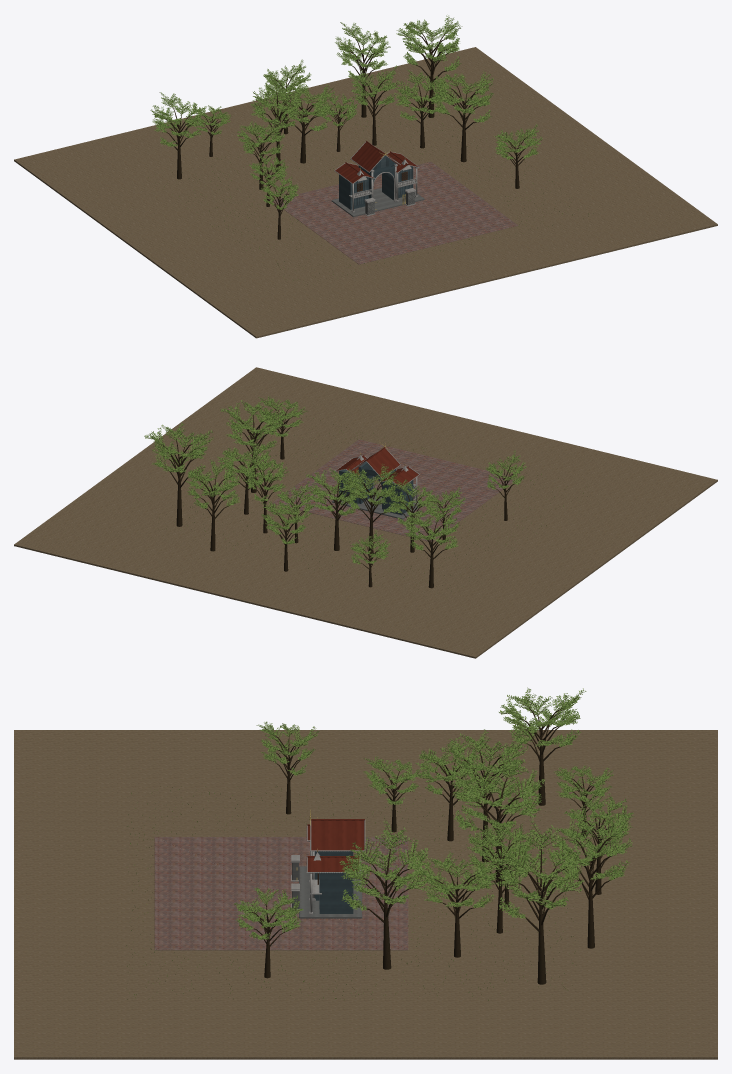
File: western-gate.glb
3 views of the same model, one above another, from view 1: azimuth 30°, elevation 25°; view 2: azimuth 150°, elevation 25°; view 3: azimuth 270°, elevation 25° (orthographic). The views are drawn at different scales.
Parts seen in each view (by area): view 1: Earth beneath the courtyard, Brick courtyard, Broadleaf tree.010, Broadleaf tree.006, Broadleaf tree.013, Broadleaf tree.009, Broadleaf tree.001, Broadleaf tree.002, Weathered blue-grey plaster.001 · architectural surfaces, Broadleaf tree.005, Broadleaf tree.004, Broadleaf tree (+9 smaller); view 2: Earth beneath the courtyard, Brick courtyard, Broadleaf tree.010, Broadleaf tree.006, Broadleaf tree.013, Broadleaf tree.002, Broadleaf tree.001, Broadleaf tree.009, Broadleaf tree.004, Broadleaf tree.005, Weathered blue-grey plaster.001 · architectural surfaces, Broadleaf tree (+8 smaller); view 3: Earth beneath the courtyard, Brick courtyard, Broadleaf tree.010, Broadleaf tree.006, Broadleaf tree.002, Broadleaf tree.009, Broadleaf tree.013, Broadleaf tree.005, Broadleaf tree.001, Oxidised red roof.001 · architectural surfaces, Broadleaf tree.008, Broadleaf tree.004 (+10 smaller).
Boxes of the visible parts, x1=… form: Earth beneath the courtyard: x1=14, y1=47, x2=717, y2=338; Brick courtyard: x1=273, y1=162, x2=517, y2=264; Broadleaf tree.010: x1=396, y1=15, x2=462, y2=117; Broadleaf tree.006: x1=429, y1=71, x2=494, y2=162; Broadleaf tree.013: x1=335, y1=22, x2=390, y2=117; Broadleaf tree.009: x1=150, y1=92, x2=204, y2=179; Broadleaf tree.001: x1=250, y1=74, x2=305, y2=173; Broadleaf tree.002: x1=270, y1=83, x2=334, y2=163; Weathered blue-grey plaster.001 · architectural surfaces: x1=339, y1=156, x2=412, y2=209; Broadleaf tree.005: x1=395, y1=69, x2=449, y2=148; Broadleaf tree.004: x1=351, y1=65, x2=399, y2=145; Broadleaf tree: x1=237, y1=120, x2=286, y2=189; Earth beneath the courtyard: x1=14, y1=367, x2=717, y2=658; Brick courtyard: x1=272, y1=439, x2=517, y2=541; Broadleaf tree.010: x1=144, y1=422, x2=213, y2=526; Broadleaf tree.006: x1=220, y1=399, x2=288, y2=492; Broadleaf tree.013: x1=185, y1=459, x2=240, y2=551; Broadleaf tree.002: x1=306, y1=468, x2=369, y2=550; Broadleaf tree.001: x1=341, y1=464, x2=397, y2=553; Broadleaf tree.009: x1=402, y1=506, x2=459, y2=588; Broadleaf tree.004: x1=240, y1=452, x2=288, y2=533; Broadleaf tree.005: x1=217, y1=442, x2=273, y2=514; Weathered blue-grey plaster.001 · architectural surfaces: x1=339, y1=462, x2=413, y2=515; Broadleaf tree: x1=389, y1=479, x2=433, y2=552; Earth beneath the courtyard: x1=14, y1=730, x2=717, y2=1059; Brick courtyard: x1=154, y1=837, x2=408, y2=950; Broadleaf tree.010: x1=494, y1=818, x2=587, y2=984; Broadleaf tree.006: x1=339, y1=820, x2=431, y2=969; Broadleaf tree.002: x1=452, y1=755, x2=544, y2=882; Broadleaf tree.009: x1=499, y1=687, x2=586, y2=805; Broadleaf tree.013: x1=550, y1=813, x2=633, y2=948; Broadleaf tree.005: x1=414, y1=851, x2=502, y2=957; Broadleaf tree.001: x1=440, y1=729, x2=529, y2=862; Oxidised red roof.001 · architectural surfaces: x1=307, y1=819, x2=364, y2=871; Broadleaf tree.008: x1=233, y1=887, x2=303, y2=978; Broadleaf tree.004: x1=467, y1=819, x2=534, y2=933.
Bounding box in the file's own units: 110 × 23.13 × 100.
Materials: 15 (9 with a texture image).
